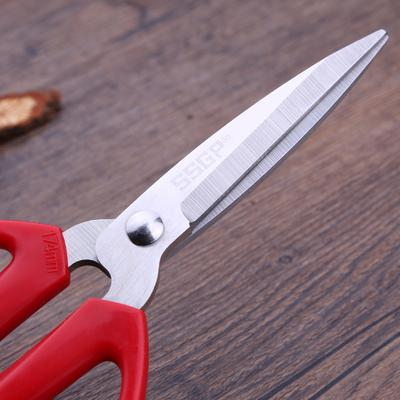scissor: (33, 17, 400, 395)
